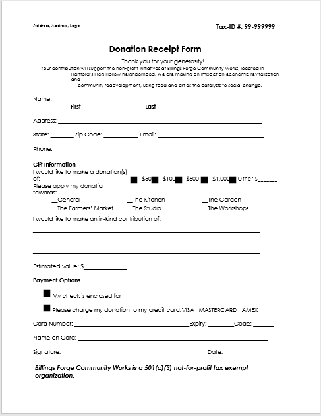checkbox: (42, 302, 51, 314), (129, 175, 139, 185), (173, 175, 183, 185), (228, 175, 237, 185), (42, 288, 51, 298), (200, 174, 208, 185), (150, 174, 158, 184)
textline: (31, 222, 262, 235), (56, 113, 263, 125), (30, 235, 261, 245), (76, 332, 270, 343), (52, 94, 263, 104), (30, 246, 261, 255), (61, 346, 207, 357), (52, 144, 174, 154), (73, 319, 190, 329), (154, 130, 265, 139), (223, 345, 267, 357), (82, 260, 128, 271), (102, 129, 140, 139), (206, 319, 234, 330), (49, 129, 75, 138), (251, 319, 274, 329), (258, 175, 278, 183), (51, 196, 59, 205), (125, 196, 133, 205), (200, 196, 208, 205)
